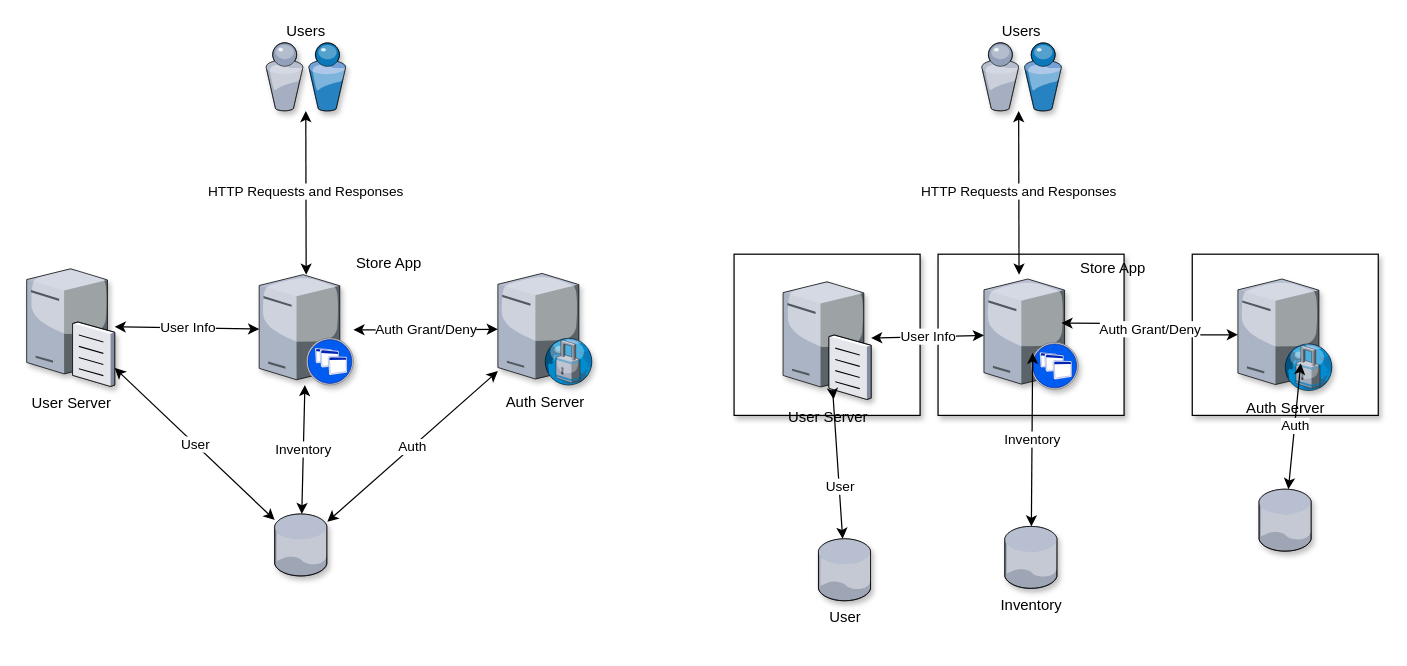
Image size: 1407x666. Some labels were removed from this diagram. The centre of each missing label's shape, as x and y in pixels:
"Credential" goes at point (1285, 521).
"Monolithic Database" goes at point (301, 546).
